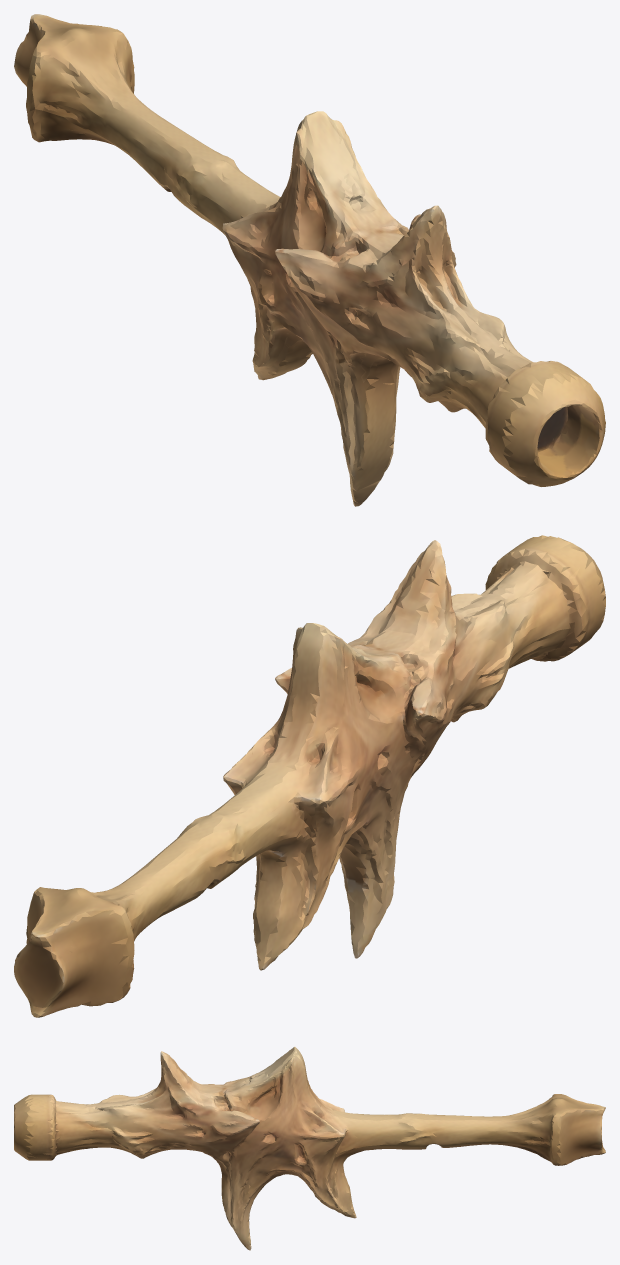
3 views of the same model, one above another, from view 1: azimuth 30°, elevation 25°; view 2: azimuth 150°, elevation 25°; view 3: azimuth 270°, elevation 25° (orthographic). The views are drawn at different scales.
Visible parts, largest first — view 1: 054; view 2: 054; view 3: 054.
Boxes of the visible parts, x1=… form: 054: x1=14, y1=14, x2=605, y2=506; 054: x1=14, y1=535, x2=605, y2=1017; 054: x1=14, y1=1046, x2=605, y2=1250.
Bounding box in the file's own units: 0.3072 × 0.7149 × 1.9.
1 material, 1 textured.
